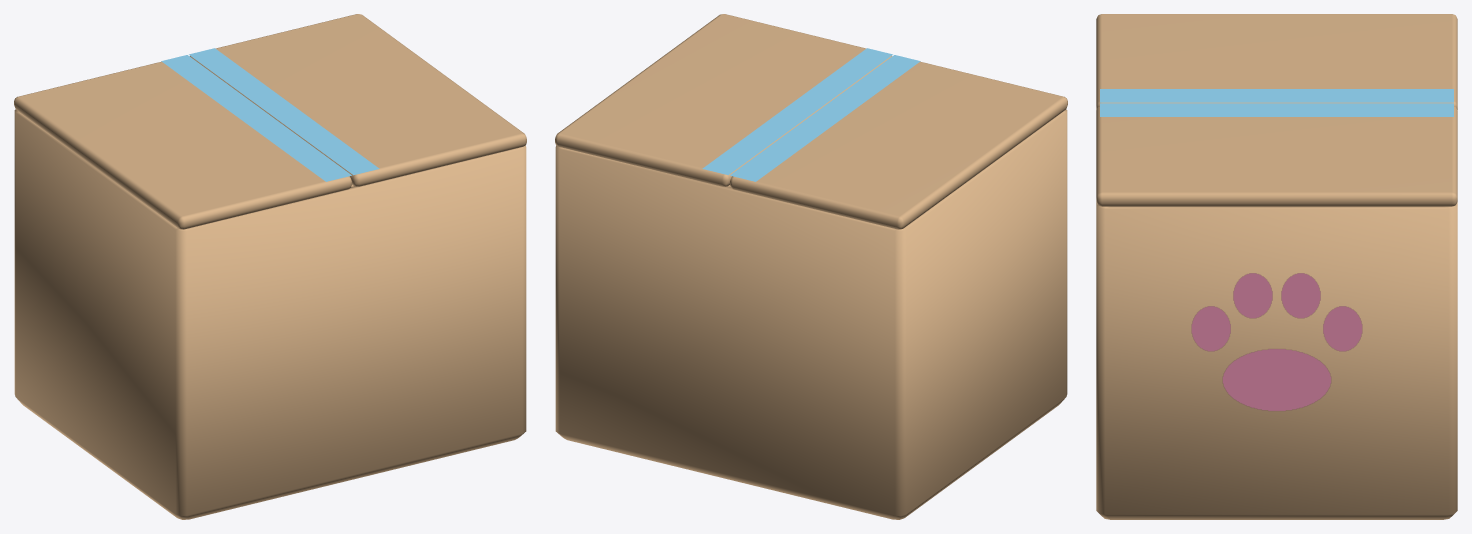
The model's file is box_small.glb.
3 renders of one model, left to right at view 1: azimuth 30°, elevation 25°; view 2: azimuth 150°, elevation 25°; view 3: azimuth 270°, elevation 25°, orthographic. The views are drawn at different scales.
Parts seen in each view (by area): view 1: Body, Lid_L, Lid_R; view 2: Body, Lid_L, Lid_R; view 3: Body, Lid_R, Lid_L.
Boxes of the visible parts, box(x1,y1,x2,y2) form: Body: box(14, 109, 526, 519); Lid_L: box(14, 55, 351, 229); Lid_R: box(189, 14, 526, 186); Body: box(555, 109, 1067, 519); Lid_L: box(730, 55, 1067, 229); Lid_R: box(555, 14, 892, 186); Body: box(1096, 110, 1457, 519); Lid_R: box(1096, 103, 1457, 206); Lid_L: box(1096, 14, 1457, 109).
Size of the model in its own units: 0.3003 by 0.25 by 0.25.
Materials: 3 (3 with a texture image).
